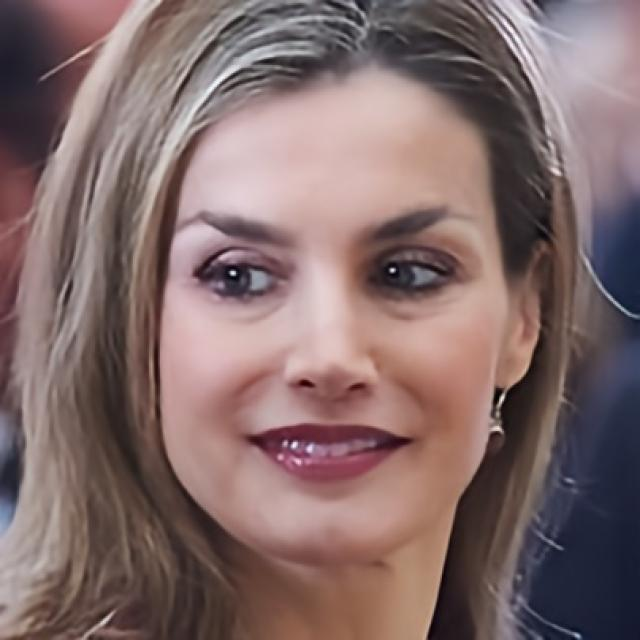happy: (158, 76, 507, 558)
